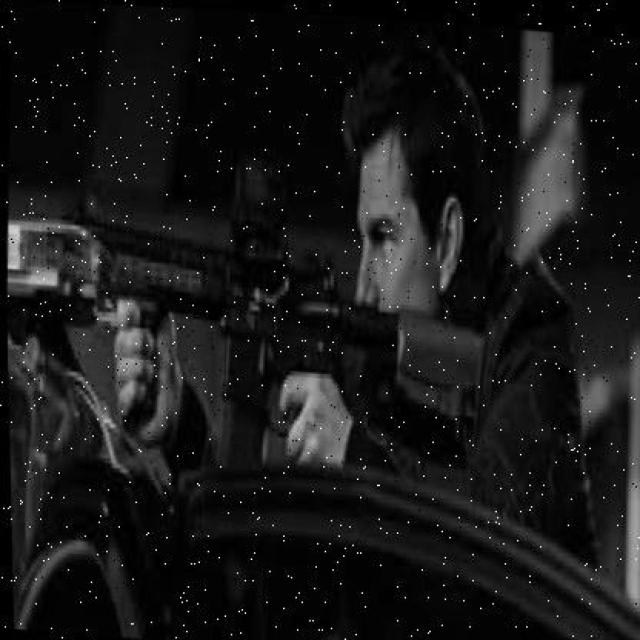weapon: (7, 152, 490, 470)
